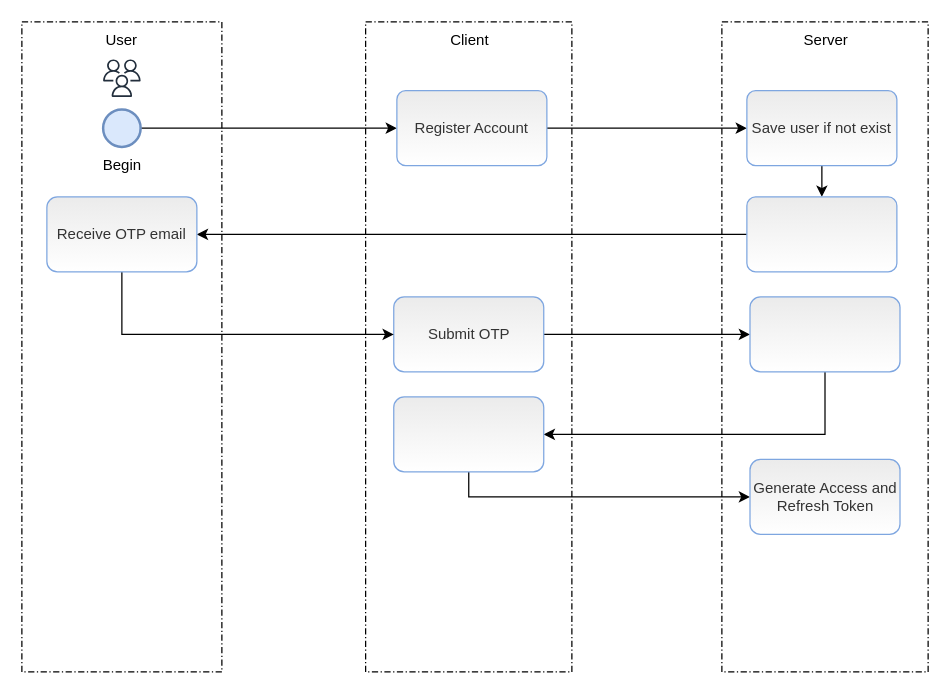
Some shapes in this 950 by 694 pixel diagram are drawn without their labels. The centre of each missing label's shape, as x and y in pixels:
"Login" belongs at point 468,434.
"Send OTP via registered email" belongs at point 821,234.
"Validate OTP and update active status" belongs at point 824,334.
